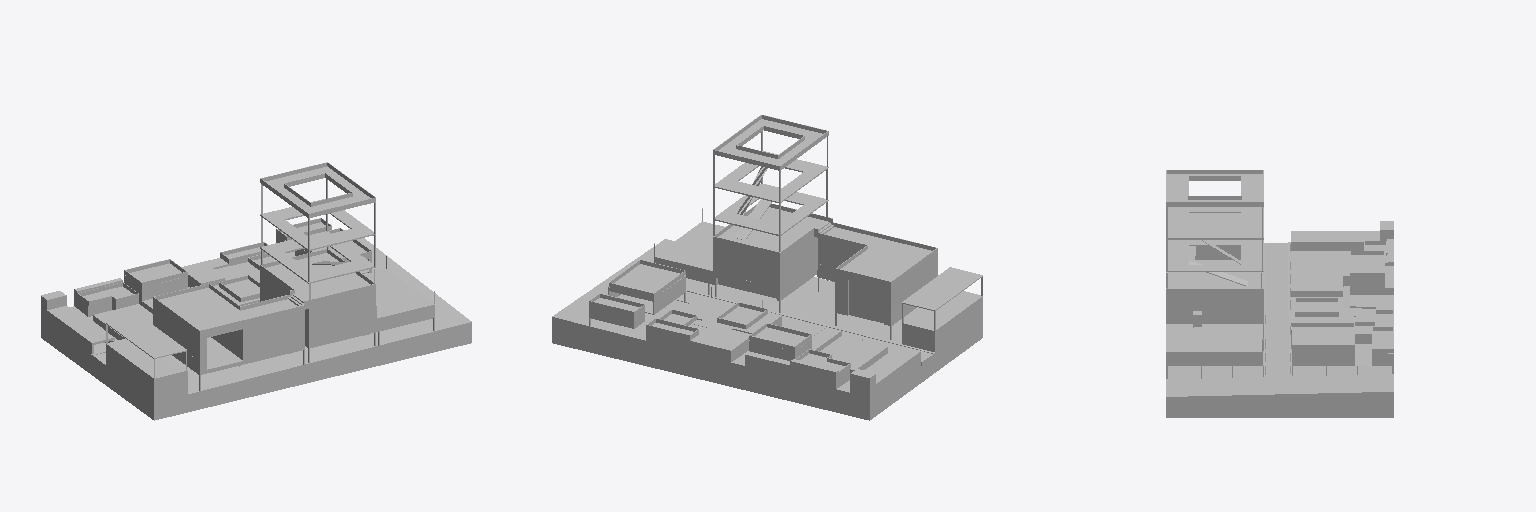
File: VINGETTE 2 CHINATOWN SIMPLE MM.obj
3 renders of one model, left to right at view 1: azimuth 30°, elevation 25°; view 2: azimuth 150°, elevation 25°; view 3: azimuth 270°, elevation 25°, orthographic.
Size of the model in its own units: 101930 by 51653 by 62963.